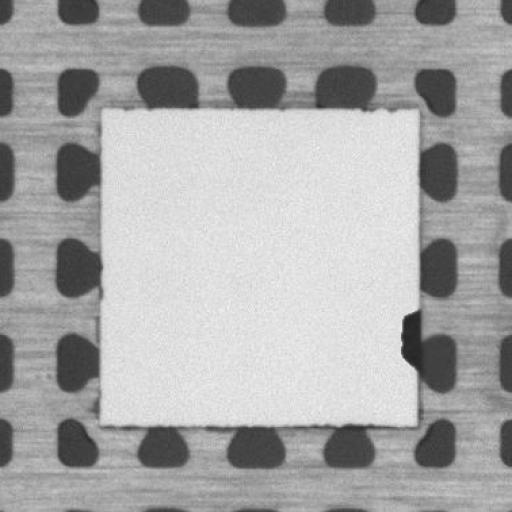DIE_BROKEN: (397, 306, 422, 376)
